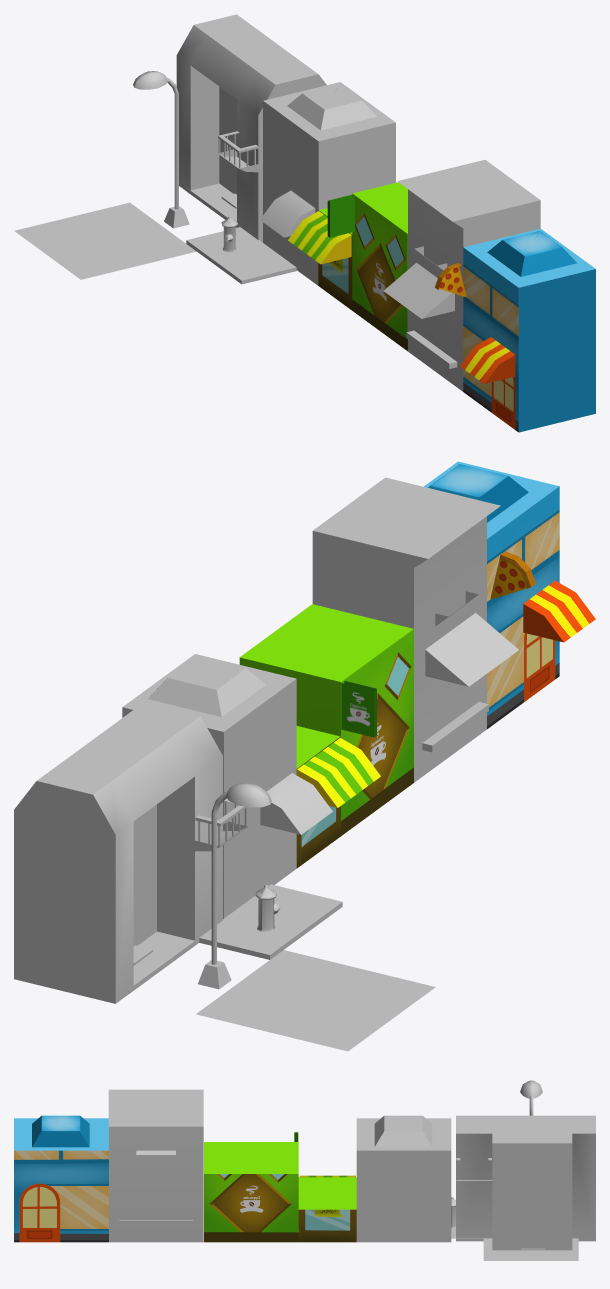
The model's file is Map1.fbx.
3 renders of one model, top to bottom at view 1: azimuth 30°, elevation 25°; view 2: azimuth 150°, elevation 25°; view 3: azimuth 270°, elevation 25°, orthographic. The views are drawn at different scales.
Visible parts, largest first — view 1: Pizza_house, Yelow_house, Green_house, Purple_house, Coffee_house, Long_duong, Via_he, Den; view 2: Yelow_house, Purple_house, Coffee_house, Green_house, Pizza_house, Long_duong, Via_he, Den, Binh_cuu_hoa; view 3: Yelow_house, Purple_house, Coffee_house, Green_house, Pizza_house, Den.
Boxes of the visible parts, x1,y1,x2,y2 form: Pizza_house: (434, 228, 595, 432); Yelow_house: (176, 14, 326, 242); Green_house: (260, 82, 395, 285); Purple_house: (384, 160, 540, 391); Coffee_house: (288, 182, 407, 351); Long_duong: (14, 202, 196, 279); Via_he: (186, 227, 296, 284); Den: (133, 71, 189, 228); Yelow_house: (14, 702, 248, 1003); Purple_house: (312, 477, 518, 782); Coffee_house: (239, 604, 413, 868); Green_house: (122, 654, 332, 918); Pizza_house: (424, 461, 595, 728); Long_duong: (196, 950, 435, 1051); Via_he: (199, 884, 342, 959); Den: (198, 783, 271, 989); Binh_cuu_hoa: (255, 885, 280, 931); Yelow_house: (456, 1115, 595, 1260); Purple_house: (108, 1089, 203, 1242); Coffee_house: (204, 1132, 356, 1242); Green_house: (356, 1115, 451, 1242); Pizza_house: (14, 1115, 108, 1242); Den: (520, 1080, 542, 1115).
Size of the model in its own units: 78.69 by 52.81 by 186.
